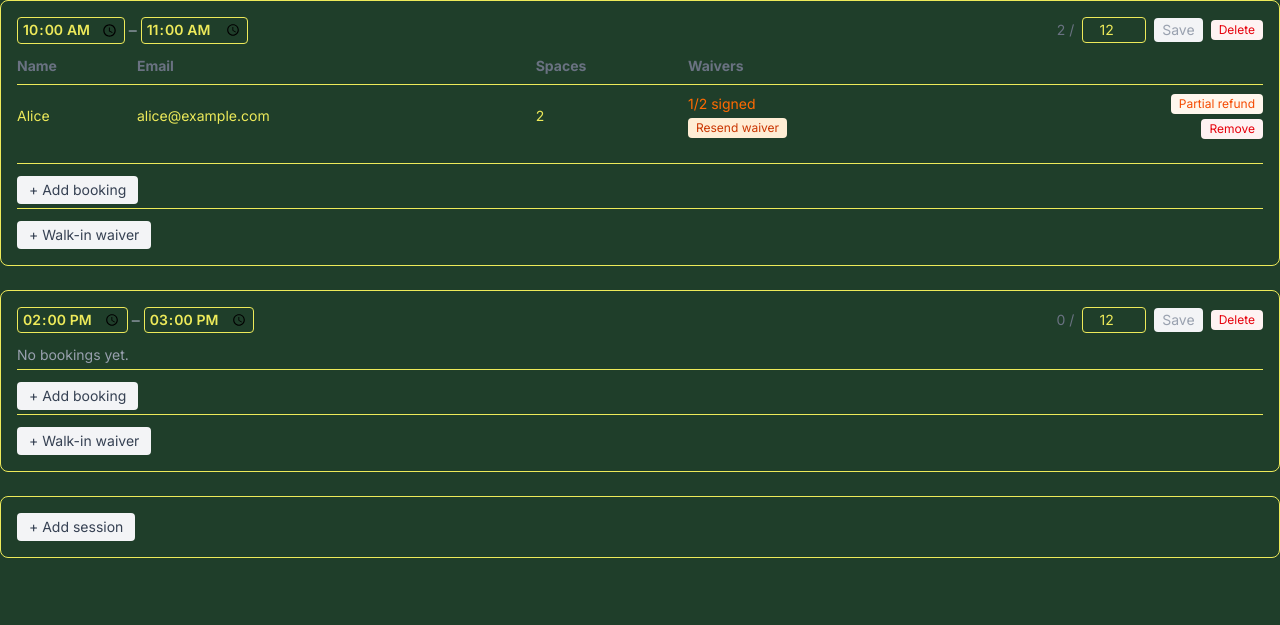
it: SlotCapacityEditor › creates a booking with mark_paid mode by default
Click the button "+ Add booking" below "No bookings yet.". click: (78,396)
box: [17, 382, 138, 410]
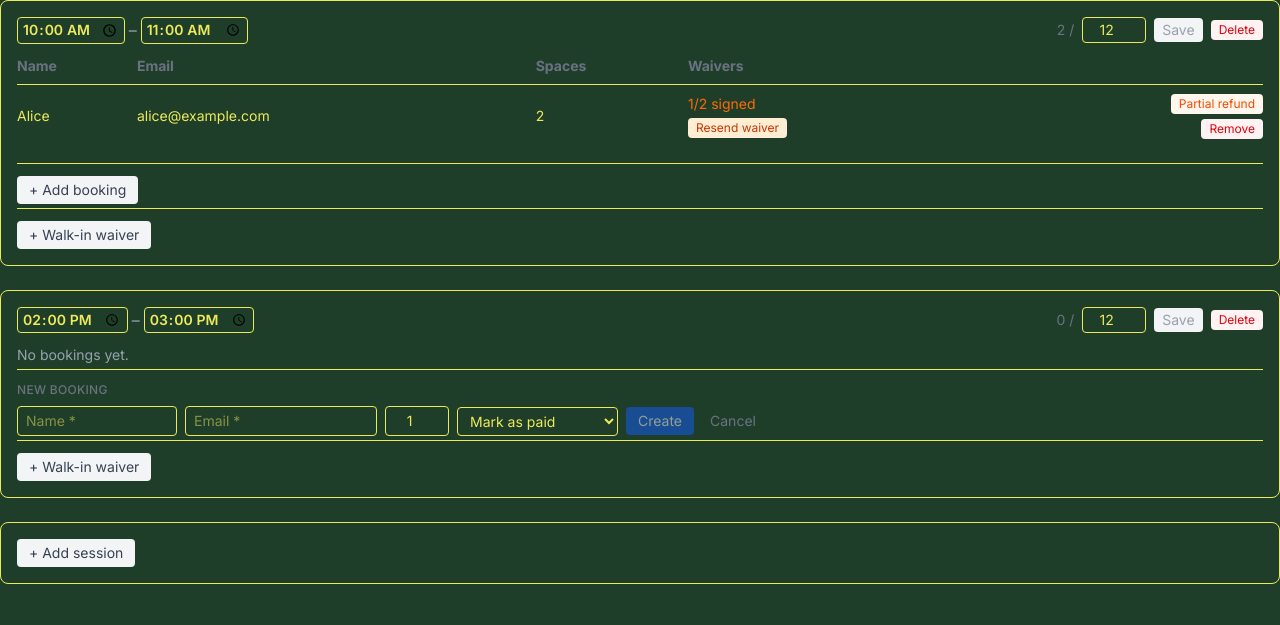
Type "Charlie" into the field with placeholder "Name *". click: (97,421)
box: [17, 406, 177, 436]
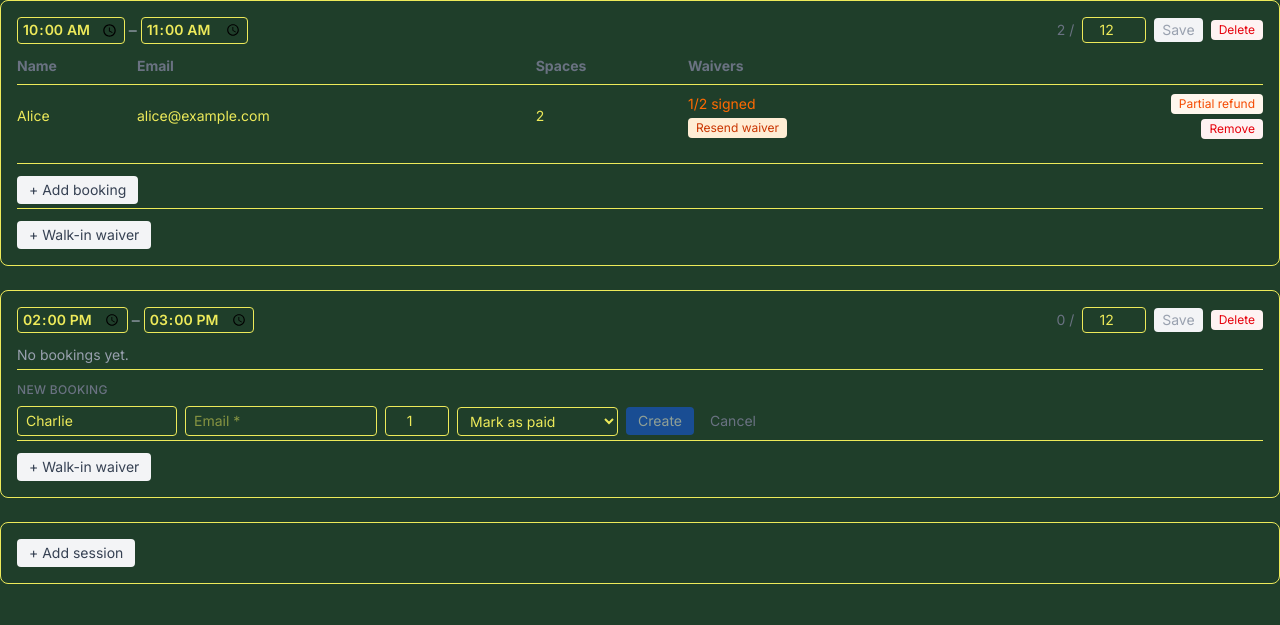
Type "charlie@example.com" into the field with placeholder "Email *". click: (281,421)
box: [185, 406, 377, 436]
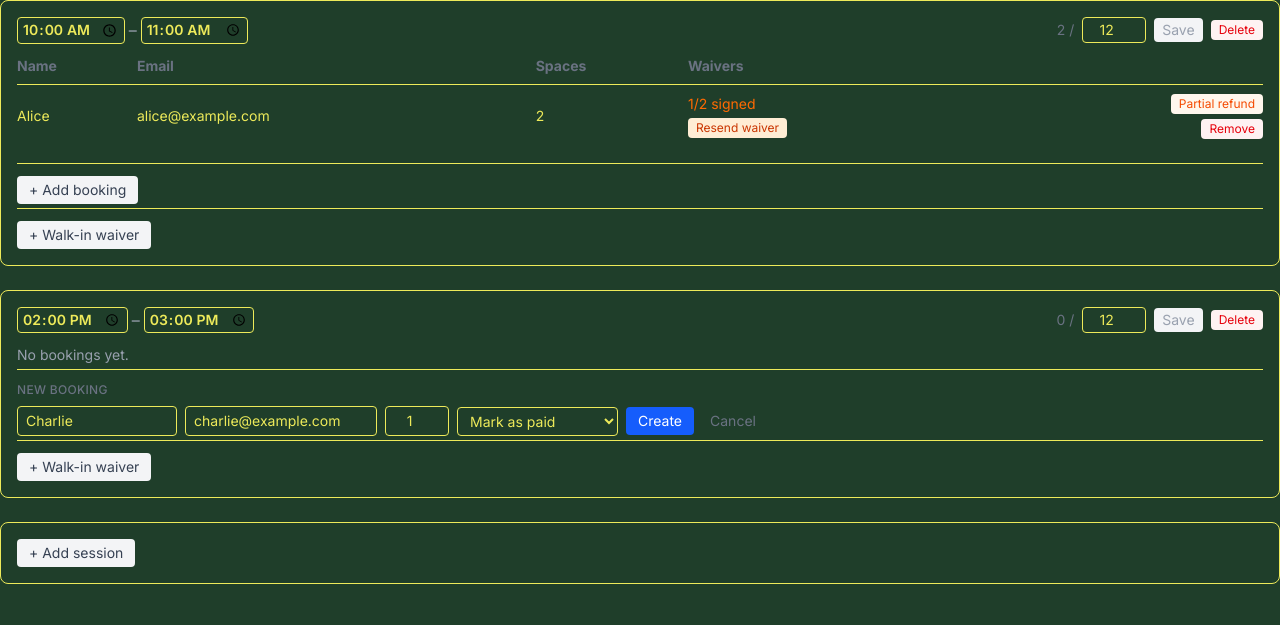
Click the button "Create". click: (660,421)
box: [626, 407, 694, 435]
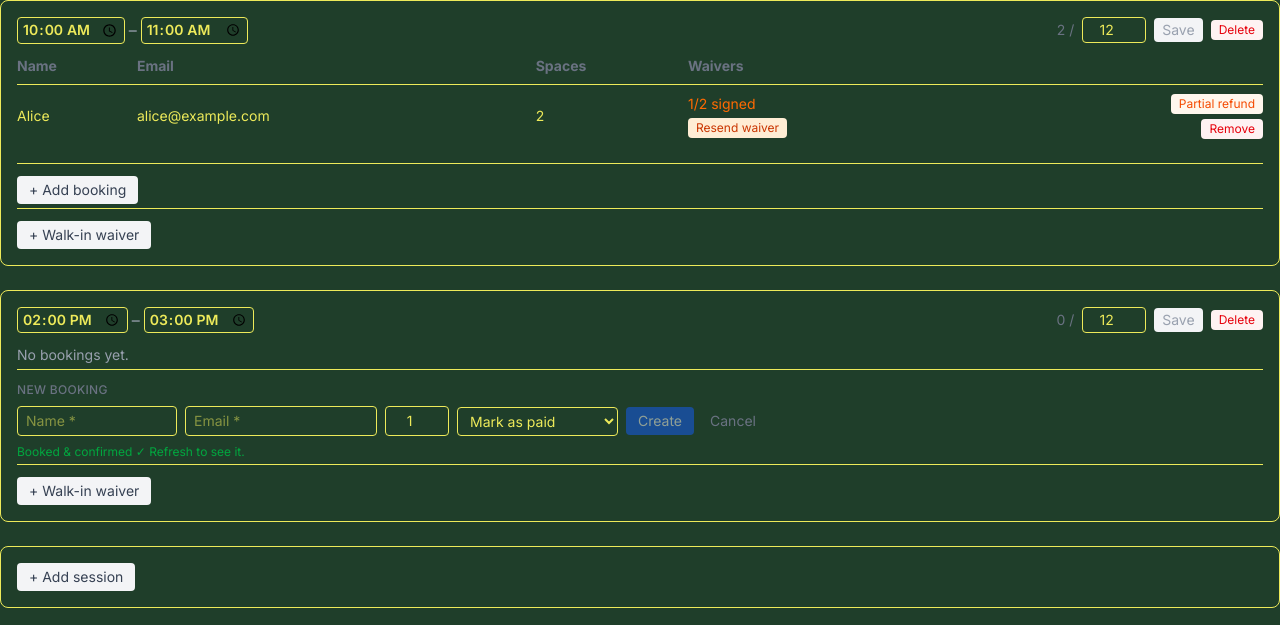
expect the text "Booked & confirmed ✓ Refresh to see it." is shown: met, box [17, 444, 245, 459]
